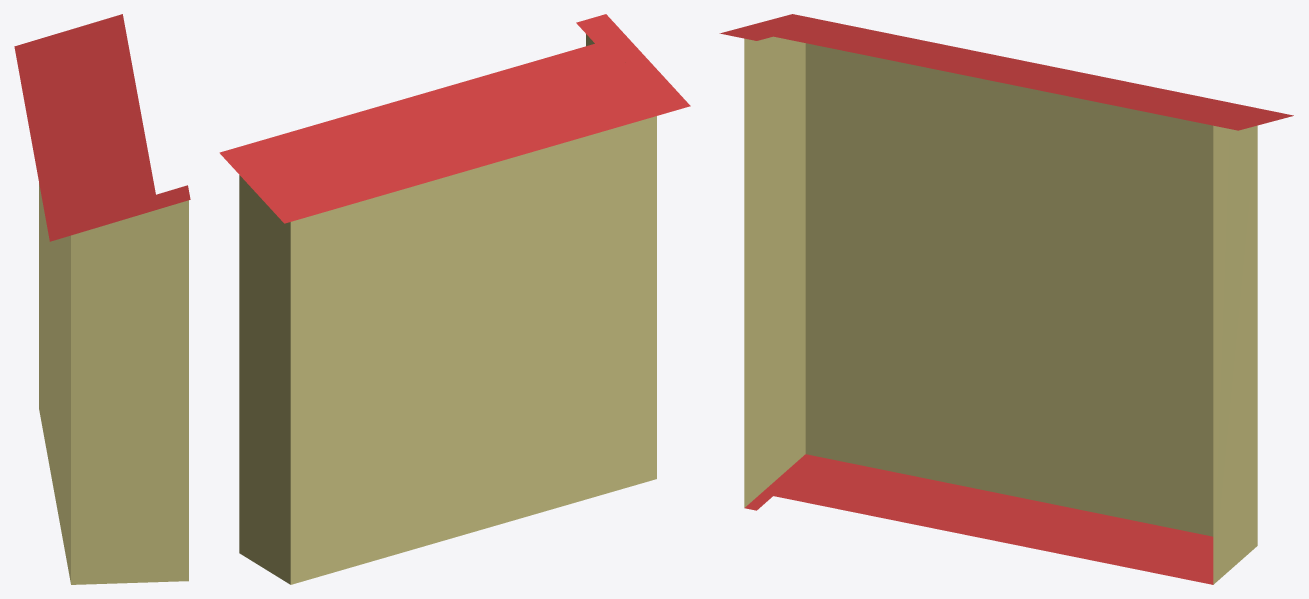
3 views of the same model, side by side, from view 1: azimuth 30°, elevation 25°; view 2: azimuth 150°, elevation 25°; view 3: azimuth 270°, elevation 25° (orthographic). The views are drawn at different scales.
Bounding box in the file's own units: 6.49 × 10.41 × 9.38.
